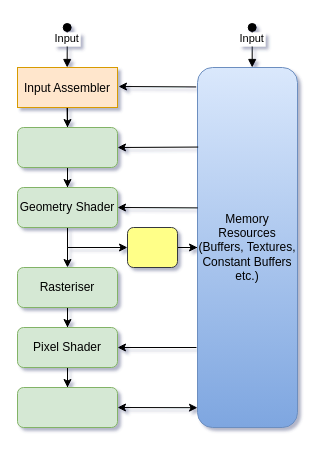
This 321x451 diagram has some shape labels left out. The centre of each missing label's shape, as x and y in pixels:
Output Merger: [67,407]
Output Stream: [152,247]
Vertex Shader: [67,147]
